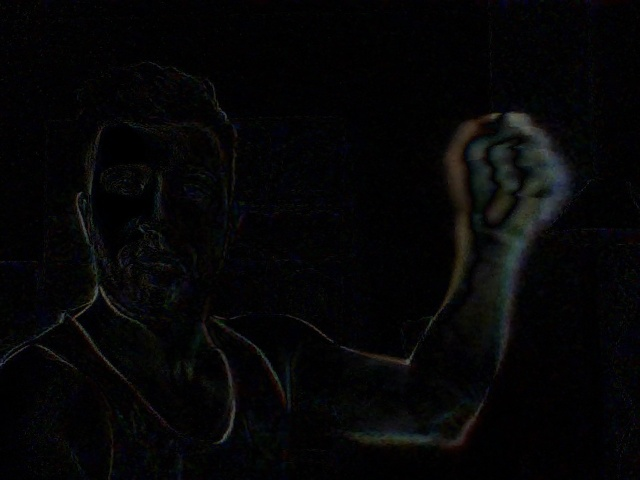hand_fi: (440, 100, 572, 244)
